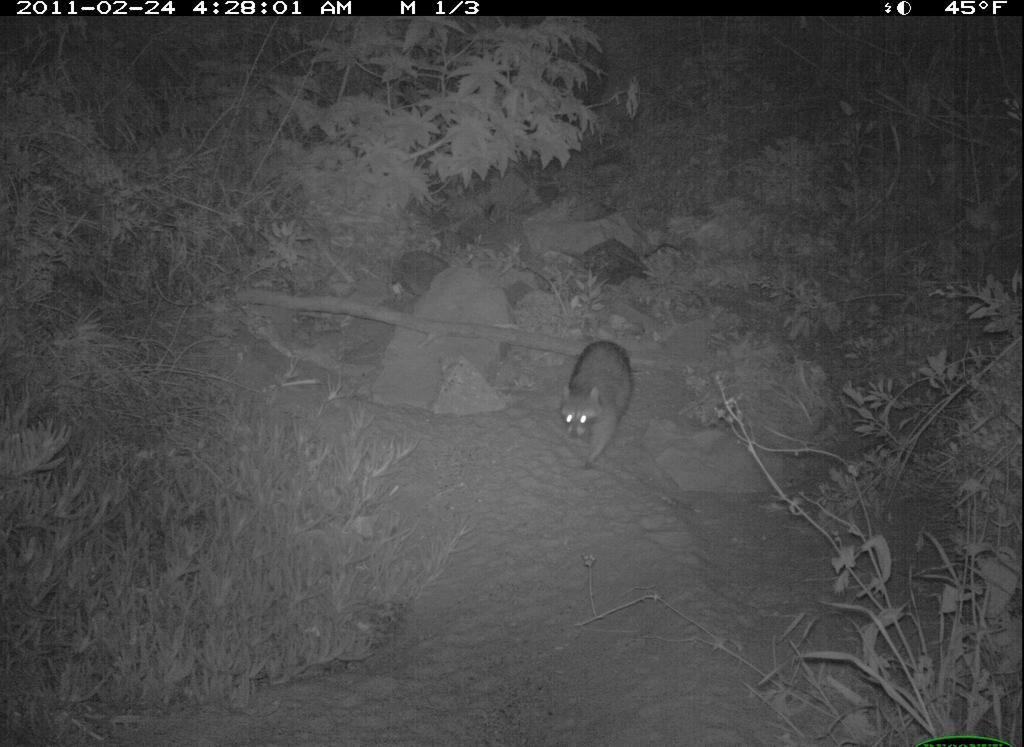raccoon: (553, 336, 643, 463)
